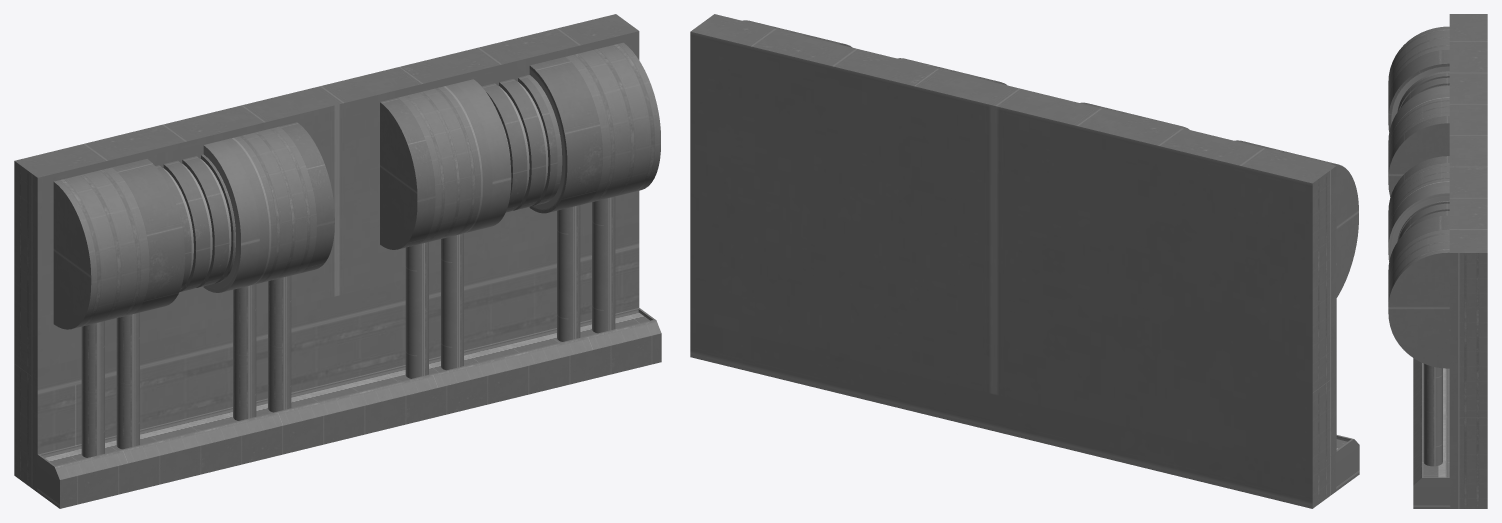
File: SM_module_03.glb
3 views of the same model, side by side, from view 1: azimuth 30°, elevation 25°; view 2: azimuth 150°, elevation 25°; view 3: azimuth 270°, elevation 25° (orthographic). The views are drawn at different scales.
Visible parts, largest first — view 1: SM_module_03; view 2: SM_module_03; view 3: SM_module_03.
Part boxes in pixels (left/top/right/bottom): SM_module_03: left=14, top=14, right=661, bottom=508; SM_module_03: left=690, top=14, right=1359, bottom=508; SM_module_03: left=1388, top=14, right=1487, bottom=508.
Bounding box in the file's own units: 8 × 4 × 1.4.
1 material, 1 textured.
